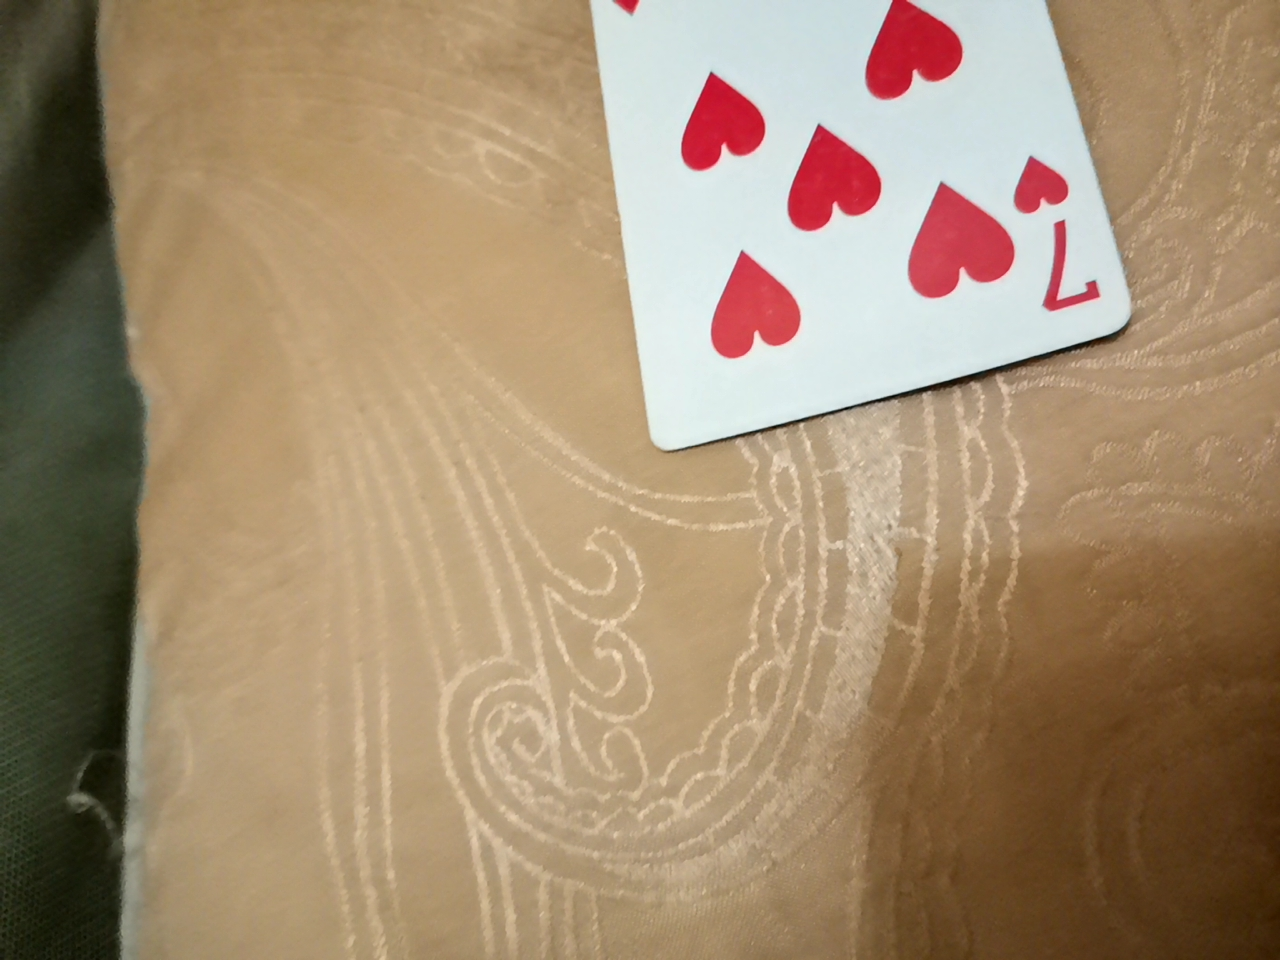hx 7: (584, 2, 1125, 450)
